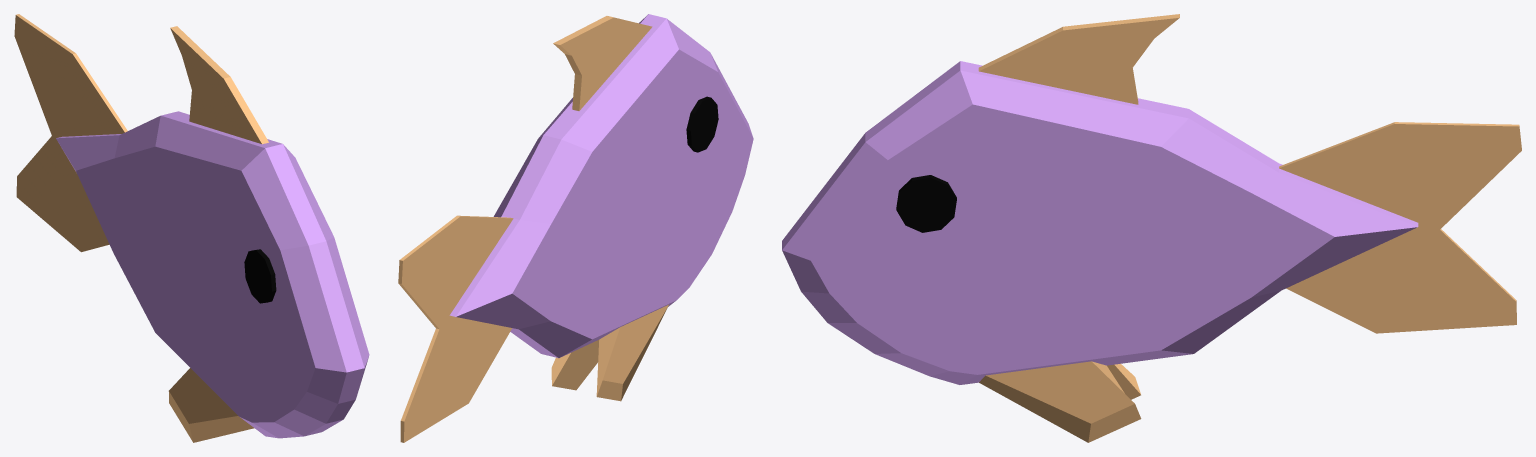
The model's file is Fish 02.fbx.
The picture shows the model from 3 angles, left to right: view 1: azimuth 30°, elevation 25°; view 2: azimuth 150°, elevation 25°; view 3: azimuth 270°, elevation 25°; orthographic projection. The views are drawn at different scales.
Visible parts, largest first — view 1: Fish 02; view 2: Fish 02; view 3: Fish 02.
Part boxes in pixels (bbox=[...]): Fish 02: bbox=[14, 14, 369, 442]; Fish 02: bbox=[398, 14, 753, 442]; Fish 02: bbox=[782, 14, 1521, 442].
Bounding box in the file's own units: 6.96 × 39.66 × 64.04.
